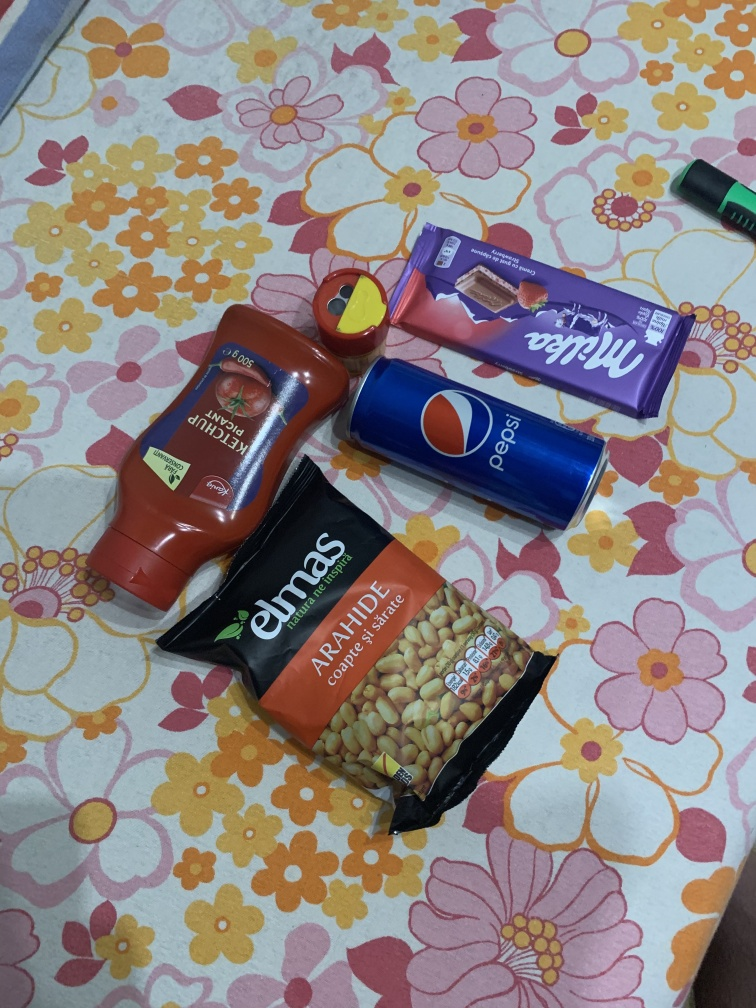ketchup: (80, 302, 355, 636)
milka: (377, 220, 705, 424)
peanuts: (150, 450, 564, 852)
pepsi: (334, 355, 613, 550)
